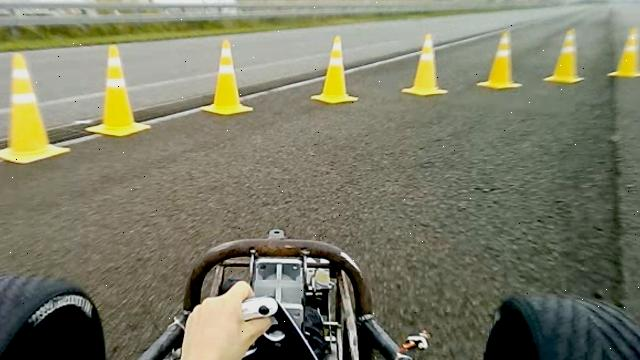yellow cone: (0, 51, 71, 164), (85, 44, 151, 137), (200, 39, 253, 115), (310, 34, 359, 105), (401, 32, 449, 96), (477, 28, 522, 90), (543, 27, 585, 84), (607, 26, 640, 78)
